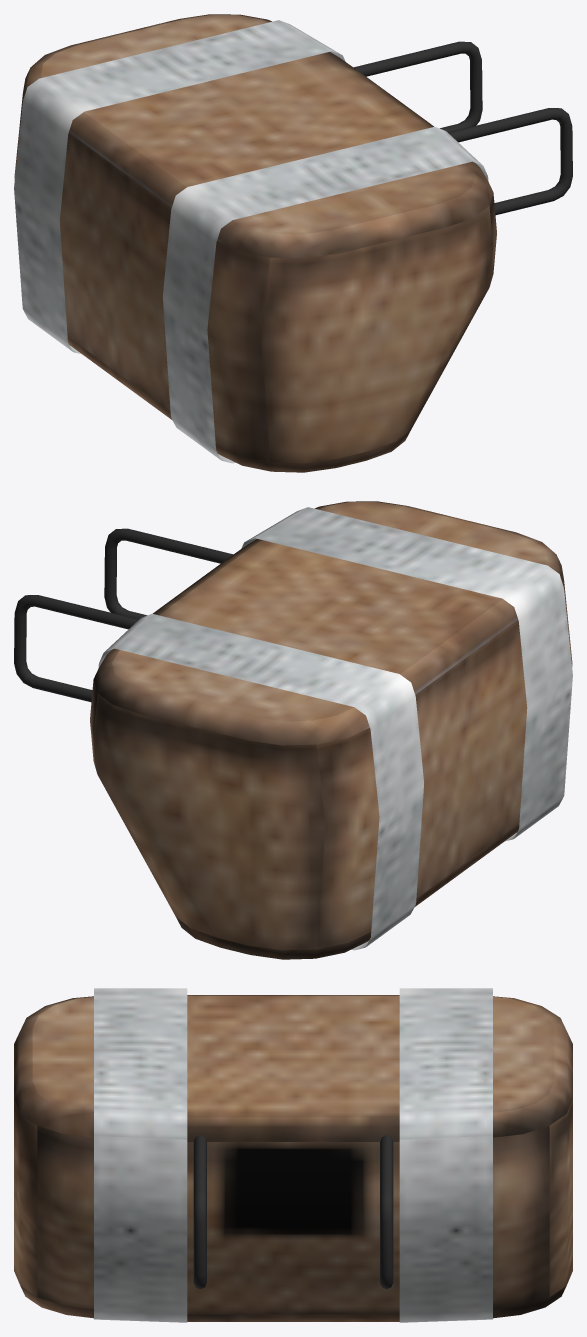
Rendered from ammomaker_BrassCatcherImprovised.fbx.
The picture shows the model from 3 angles, top to bottom: view 1: azimuth 30°, elevation 25°; view 2: azimuth 150°, elevation 25°; view 3: azimuth 270°, elevation 25°; orthographic projection. The views are drawn at different scales.
Visible parts, largest first — view 1: ammomaker_BrassCatcherImprovised; view 2: ammomaker_BrassCatcherImprovised; view 3: ammomaker_BrassCatcherImprovised.
Boxes of the visible parts, left/top/right/bottom form: ammomaker_BrassCatcherImprovised: left=14, top=14, right=572, bottom=472; ammomaker_BrassCatcherImprovised: left=14, top=501, right=572, bottom=959; ammomaker_BrassCatcherImprovised: left=14, top=988, right=572, bottom=1322.
Bounding box in the file's own units: 5.32 × 2.97 × 6.
